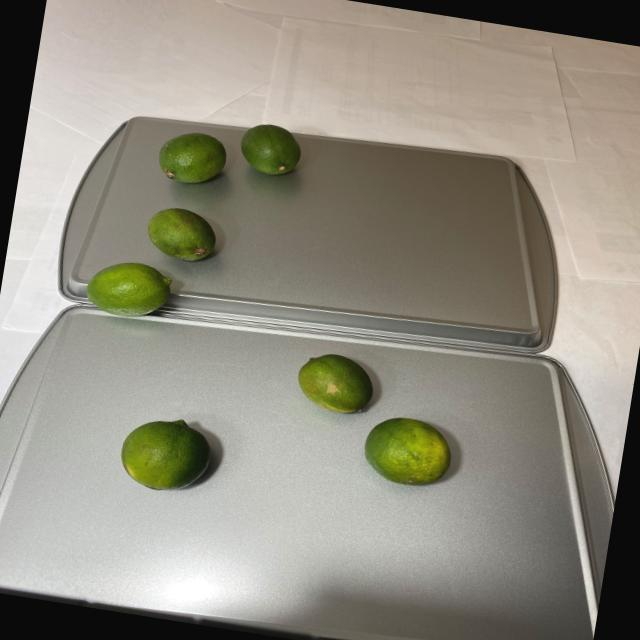lemon: (80, 95, 304, 342), (281, 346, 476, 494), (114, 406, 223, 506)
